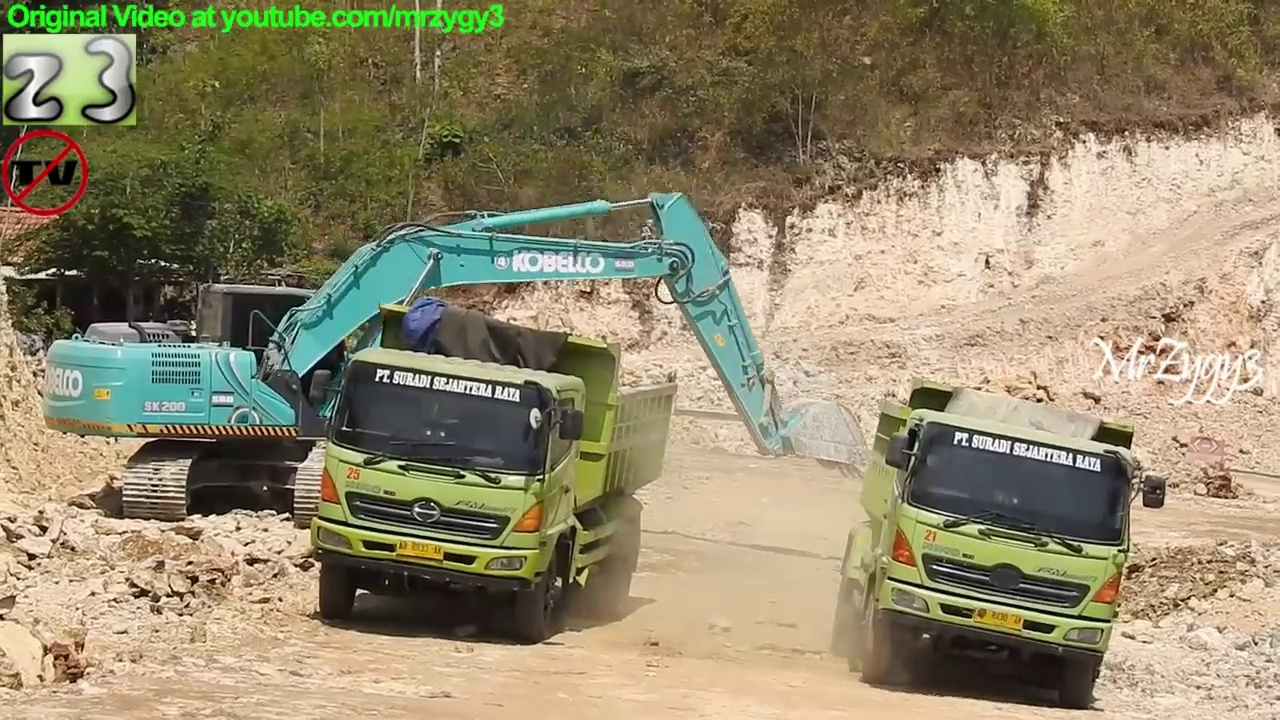excavator: (34, 183, 881, 537)
truck: (303, 298, 682, 648), (826, 376, 1172, 714)
